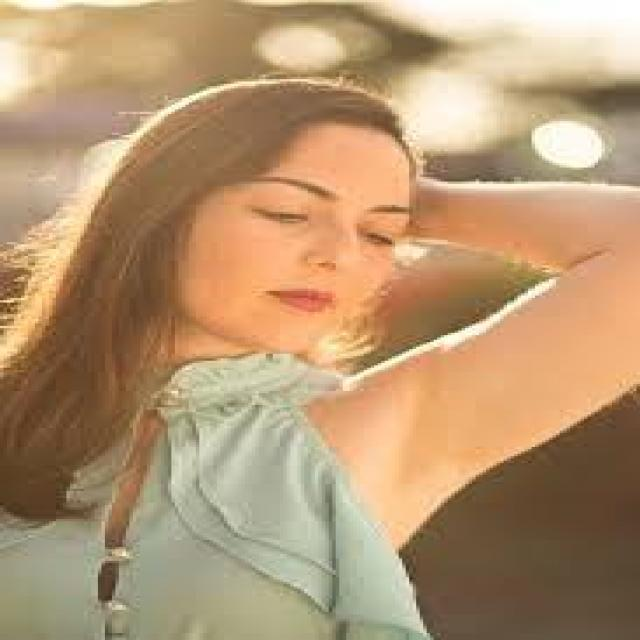person: (0, 79, 637, 626)
